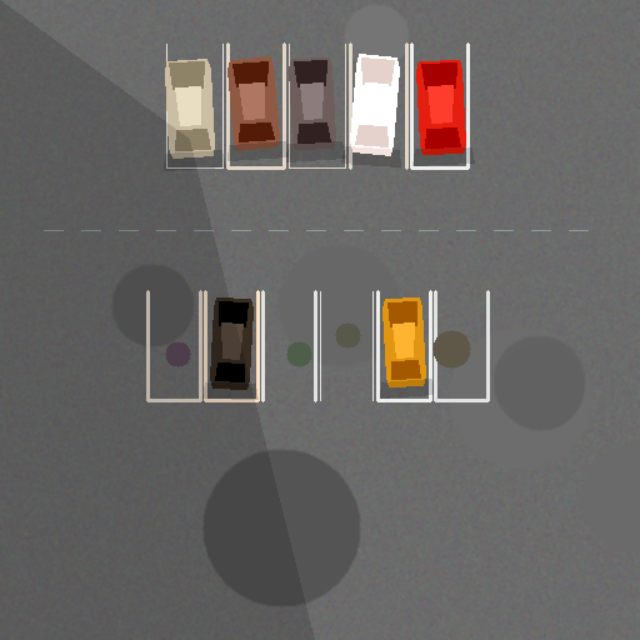space-empty: (147, 291, 200, 400), (320, 291, 373, 400), (263, 291, 315, 400), (435, 291, 487, 400)
space-occupied: (166, 44, 223, 167), (227, 44, 284, 167), (289, 44, 345, 167), (350, 44, 406, 167), (411, 44, 467, 167), (377, 291, 430, 400), (205, 291, 257, 400)
